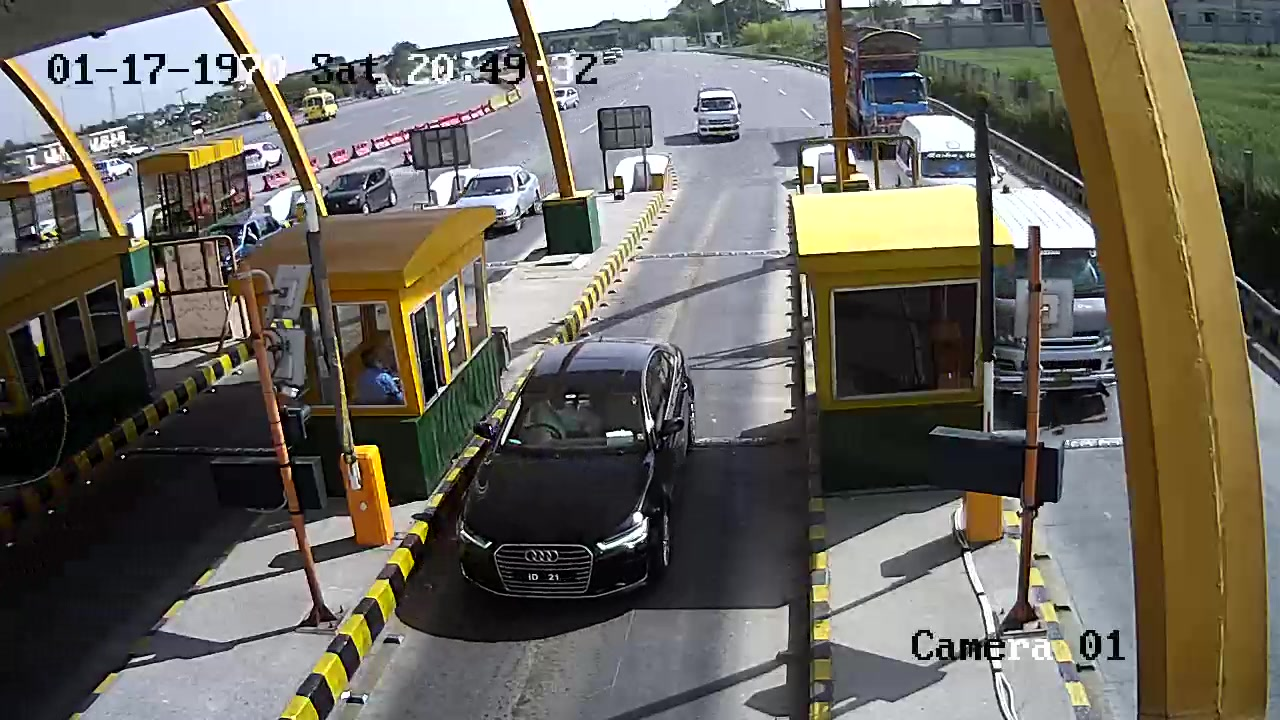F1: (441, 328, 704, 623)
